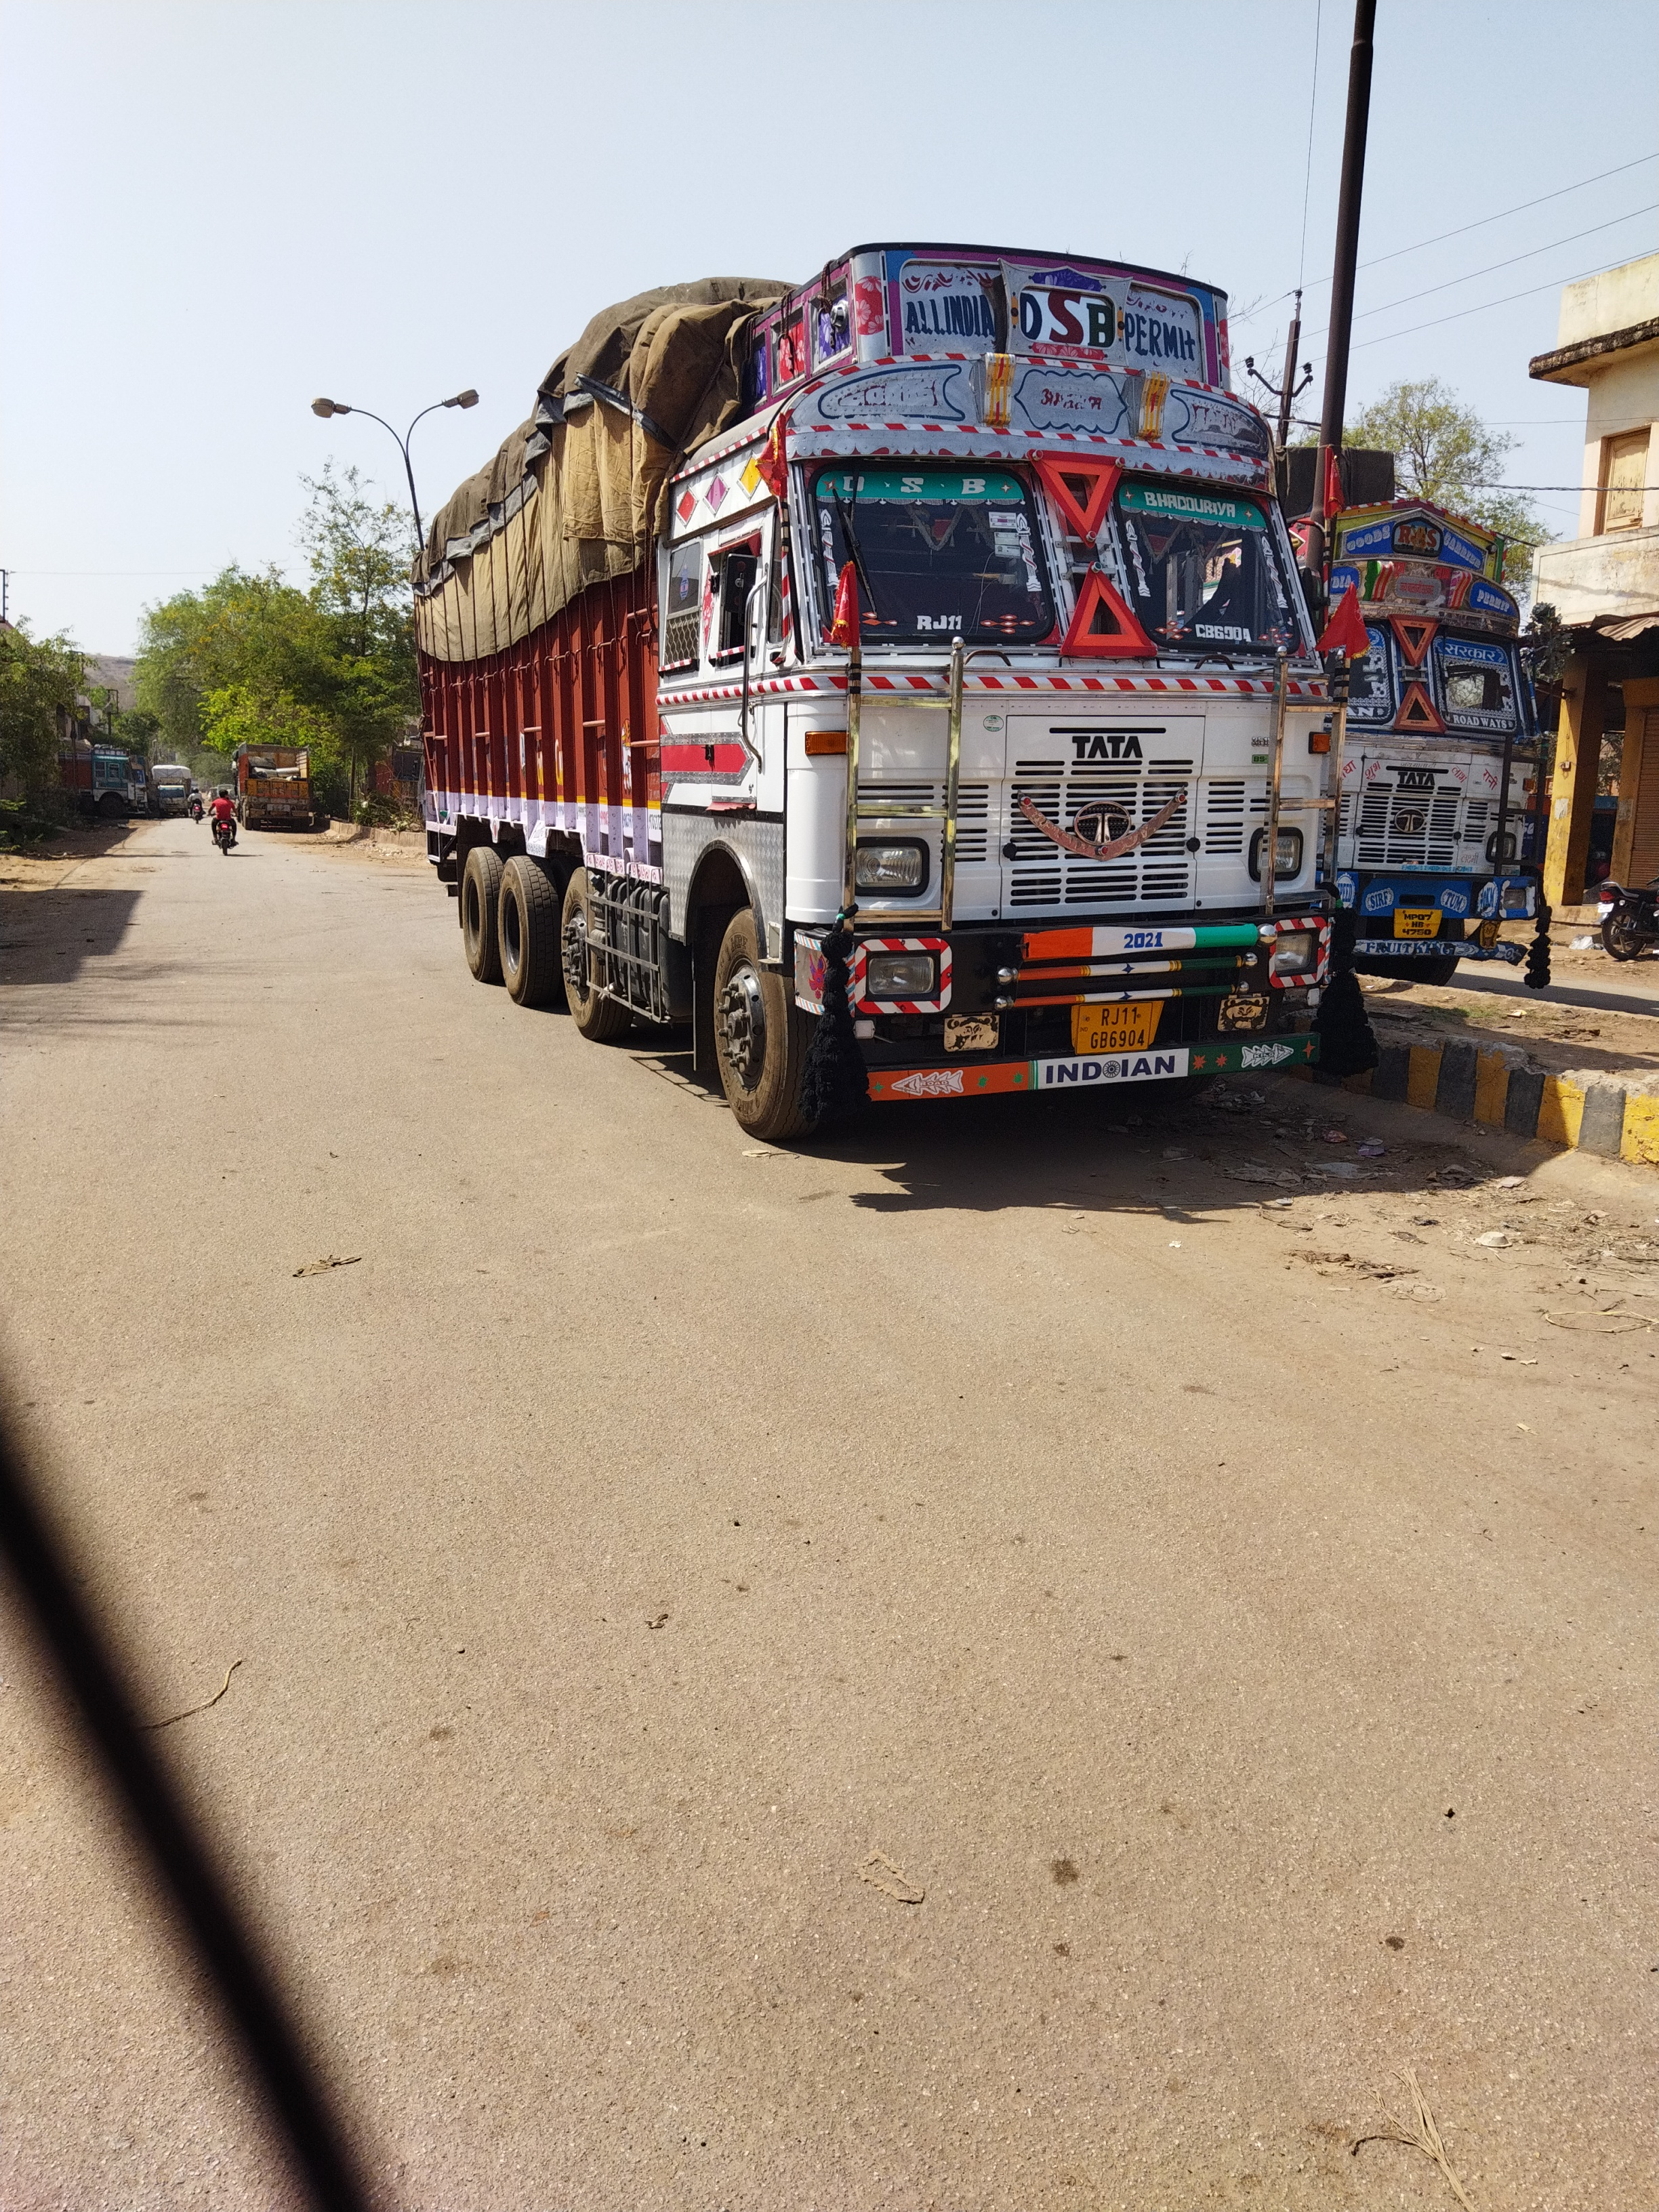truck: (230, 740, 314, 831), (58, 735, 136, 819), (129, 752, 153, 815)
